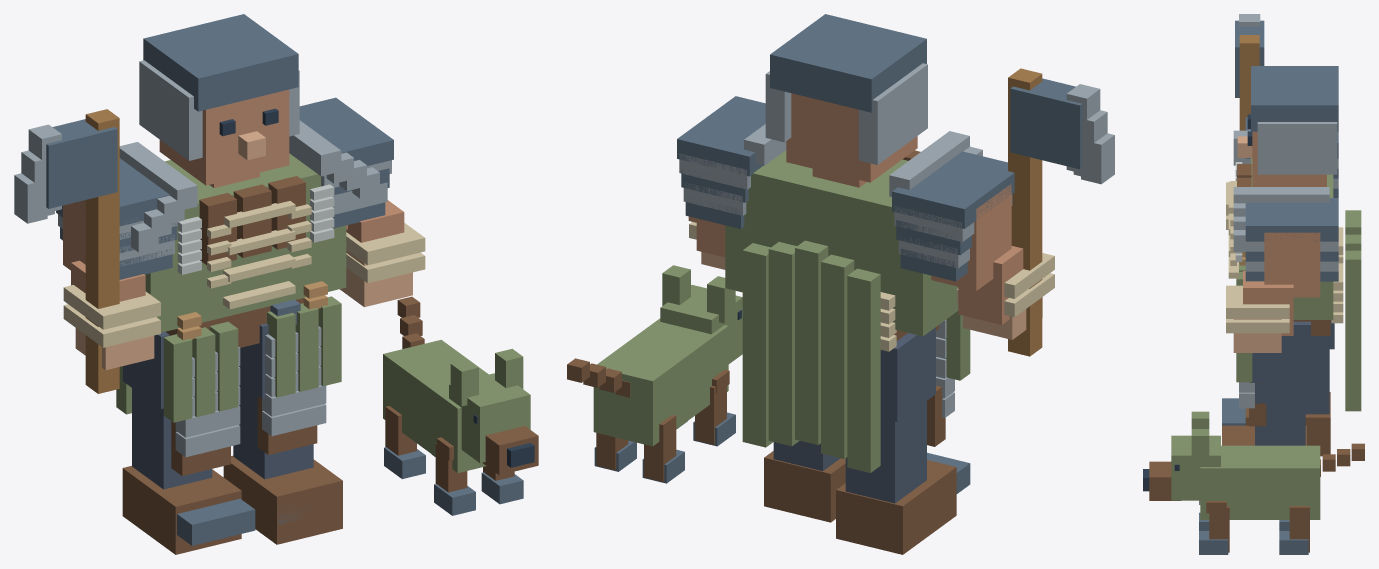
File: arena-q-hound-captain.glb
3 renders of one model, left to right at view 1: azimuth 30°, elevation 25°; view 2: azimuth 150°, elevation 25°; view 3: azimuth 270°, elevation 25°, orthographic. The views are drawn at different scales.
Visible parts, largest first — view 1: Shoulders, Helmet, Boots, Weapon, Skirt, Legs, Head, Cloth, Greaves, Hide, Wraps, Vest (+11 smaller); view 2: Cape, Shoulders, Cloth, Helmet, Legs, Weapon, Boots, Hide, Head, Arms, Wraps, Ears (+6 smaller); view 3: Helmet, Legs, Hide, Shoulders, Arms, Cape, Head, Wraps, Weapon, Boots, Feet, Cloth (+10 smaller).
Part boxes in pixels (left/top/right/bottom): Shoulders: left=56, top=97, right=393, bottom=279; Helmet: left=139, top=14, right=299, bottom=160; Boots: left=122, top=455, right=342, bottom=554; Weapon: left=14, top=109, right=119, bottom=393; Skirt: left=163, top=296, right=341, bottom=422; Legs: left=123, top=323, right=514, bottom=492; Head: left=159, top=89, right=530, bottom=463; Cloth: left=145, top=153, right=346, bottom=332; Greaves: left=171, top=326, right=326, bottom=475; Hide: left=383, top=339, right=488, bottom=472; Wraps: left=63, top=223, right=425, bottom=347; Vest: left=199, top=176, right=305, bottom=265; Cape: left=742, top=240, right=880, bottom=472; Shoulders: left=677, top=96, right=1014, bottom=281; Cloth: left=725, top=150, right=958, bottom=336; Helmet: left=765, top=14, right=927, bottom=164; Legs: left=596, top=327, right=935, bottom=503; Weapon: left=1008, top=68, right=1114, bottom=356; Boots: left=764, top=451, right=970, bottom=554; Hide: left=593, top=318, right=728, bottom=446; Head: left=660, top=93, right=917, bottom=363; Arms: left=688, top=183, right=1023, bottom=324; Wraps: left=689, top=222, right=1054, bottom=317; Ears: left=662, top=265, right=735, bottom=323; Helmet: left=1251, top=66, right=1338, bottom=174; Legs: left=1209, top=320, right=1334, bottom=552; Hide: left=1200, top=445, right=1320, bottom=519; Shoulders: left=1233, top=117, right=1338, bottom=281; Arms: left=1243, top=232, right=1320, bottom=335; Cape: left=1345, top=210, right=1361, bottom=411; Head: left=1171, top=131, right=1326, bottom=500; Wraps: left=1226, top=182, right=1289, bottom=333; Weapon: left=1235, top=14, right=1264, bottom=130; Boots: left=1222, top=392, right=1330, bottom=456; Feet: left=1199, top=512, right=1308, bottom=554; Cloth: left=1251, top=158, right=1333, bottom=319.
Size of the model in its own units: 2.13 by 2.02 by 1.08.
